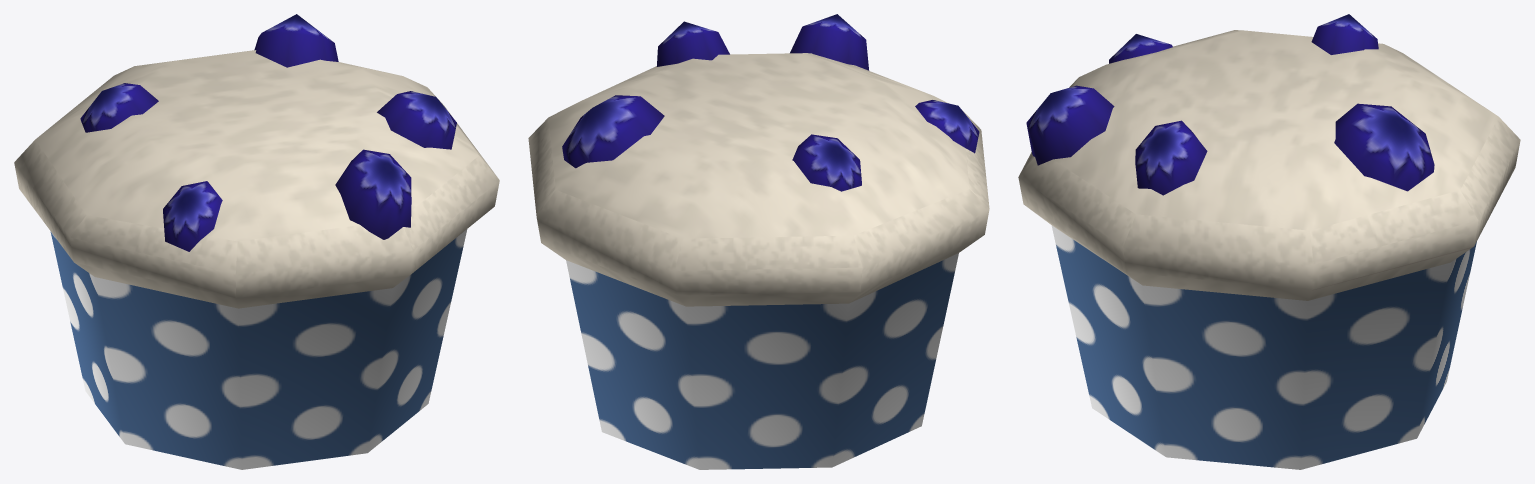
The model's file is Muffin_A_02.FBX.
3 views of the same model, side by side, from view 1: azimuth 30°, elevation 25°; view 2: azimuth 150°, elevation 25°; view 3: azimuth 270°, elevation 25° (orthographic). The views are drawn at different scales.
Visible parts, largest first — view 1: Muffin; view 2: Muffin; view 3: Muffin.
Boxes of the visible parts, <box> form: Muffin: <box>14,14,499,469</box>; Muffin: <box>528,14,989,469</box>; Muffin: <box>1018,14,1520,469</box>.
Size of the model in its own units: 36.61 by 26.52 by 36.61.
